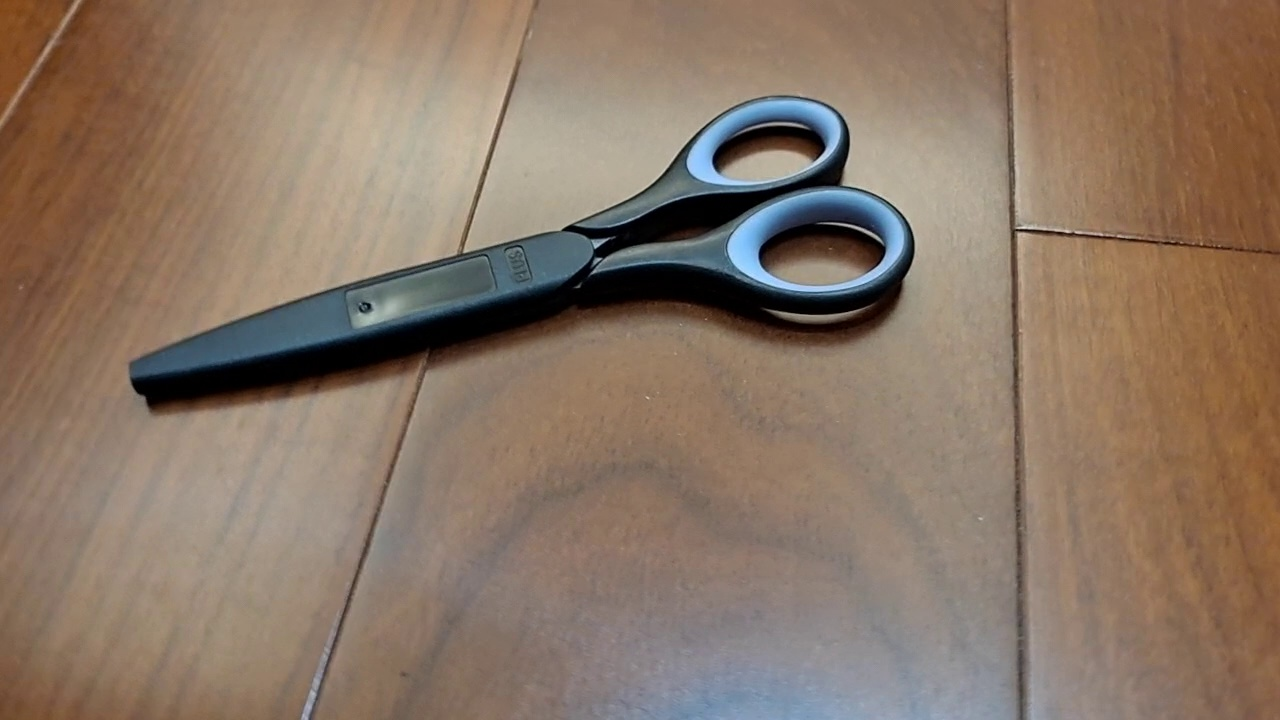scissors: (126, 92, 916, 411)
